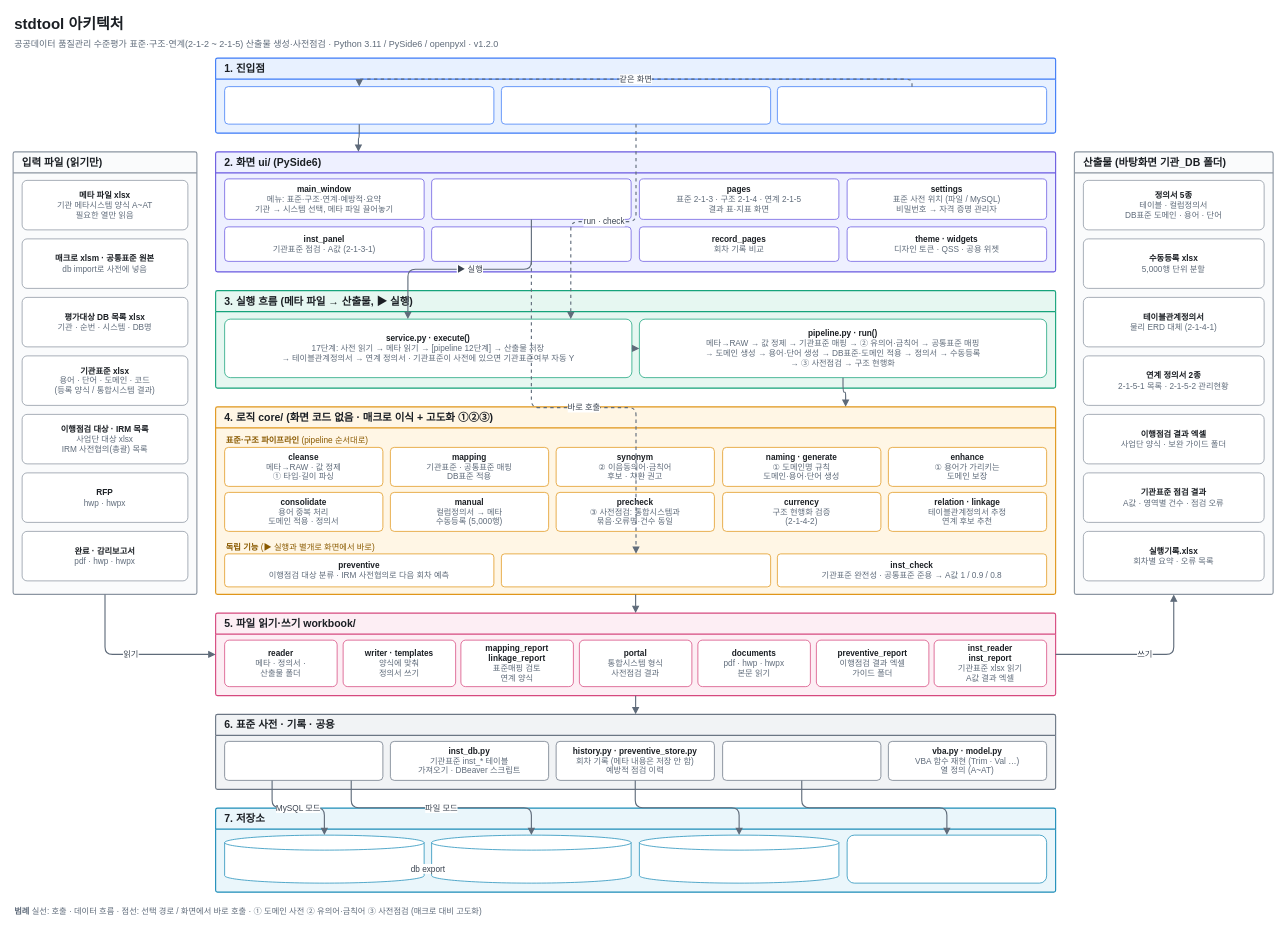
This 1287x937 diagram has some shape labels left out. Here are the shapes that lost their labels. From the top down, the centre of each, then its label:
the point at 359,105: stdtool-gui ui/app.py · 데스크톱 화면
the point at 636,105: stdtool (CLI) cli.py · run / check / db import·export·inst-sql
the point at 912,105: 팀 배포 exe packaging/build.py · stdtool.spec (PyInstaller → zip)
the point at 531,198: run_panel ▶ 실행 진행 17단계 표시 (QThread에서 service 실행)
the point at 531,243: preventive_pages 예방적 품질관리 2-1-2: 대상 사업·발주·완료
the point at 636,570: preventive_check RFP DAR 반영 · 완료/감리보고서 세부 기준 18개 Y/N/-
the point at 303,760: db.py · dictionary.py 공통표준 · Code_type/tail · 평가대상 목록 MySQL ↔ 사전 파일 같은 테이블
the point at 801,760: config.py · paths.py config.toml · 사용자 폴더 배포 사전 위치
the point at 324,858: MySQL std_dict 관리자 원본 · DBeaver로 schema.sql · 기관표준 SQL 실행
the point at 531,858: 사전 파일 std_dict.sqlite 팀 배포 기본 · exe에 내장 → 사용자 폴더로 복사
the point at 739,858: history.sqlite %APPDATA%\stdtool · 회차 기록
the point at 946,858: 설정 · 비밀번호 config.toml / 화면 설정 Windows 자격 증명 관리자 (keyring)
